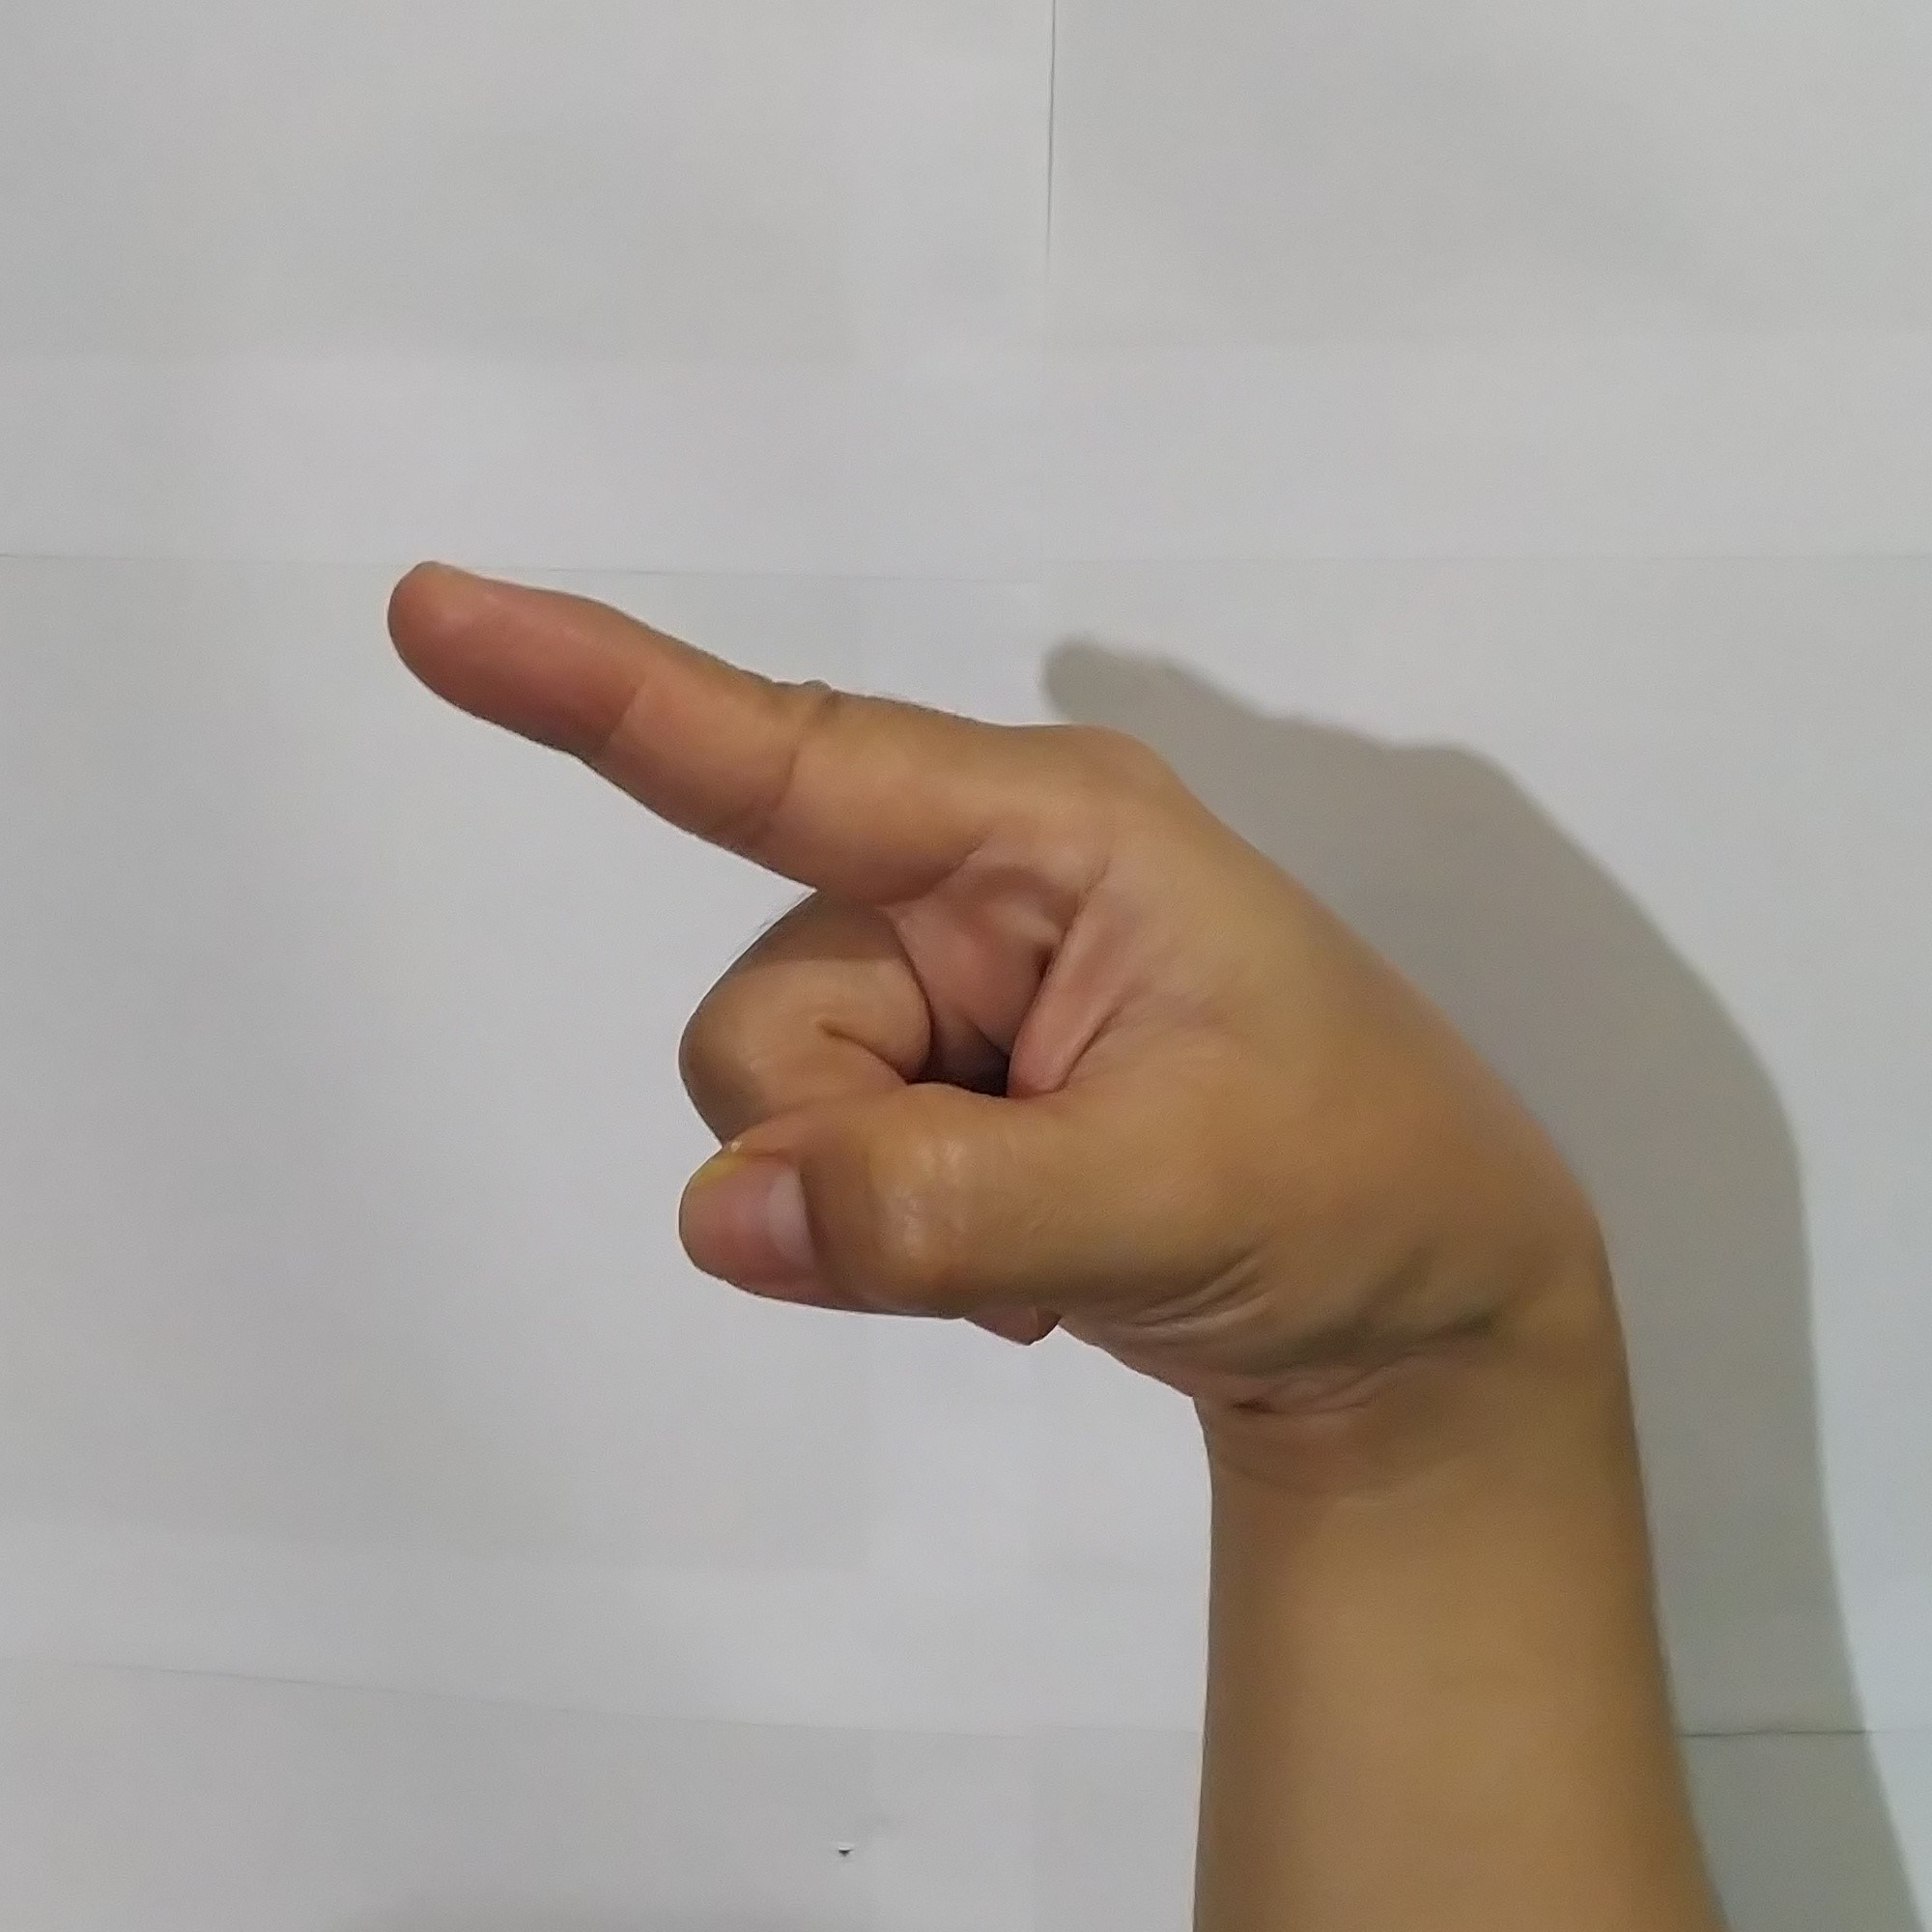Z: (356, 529, 1545, 1405)
